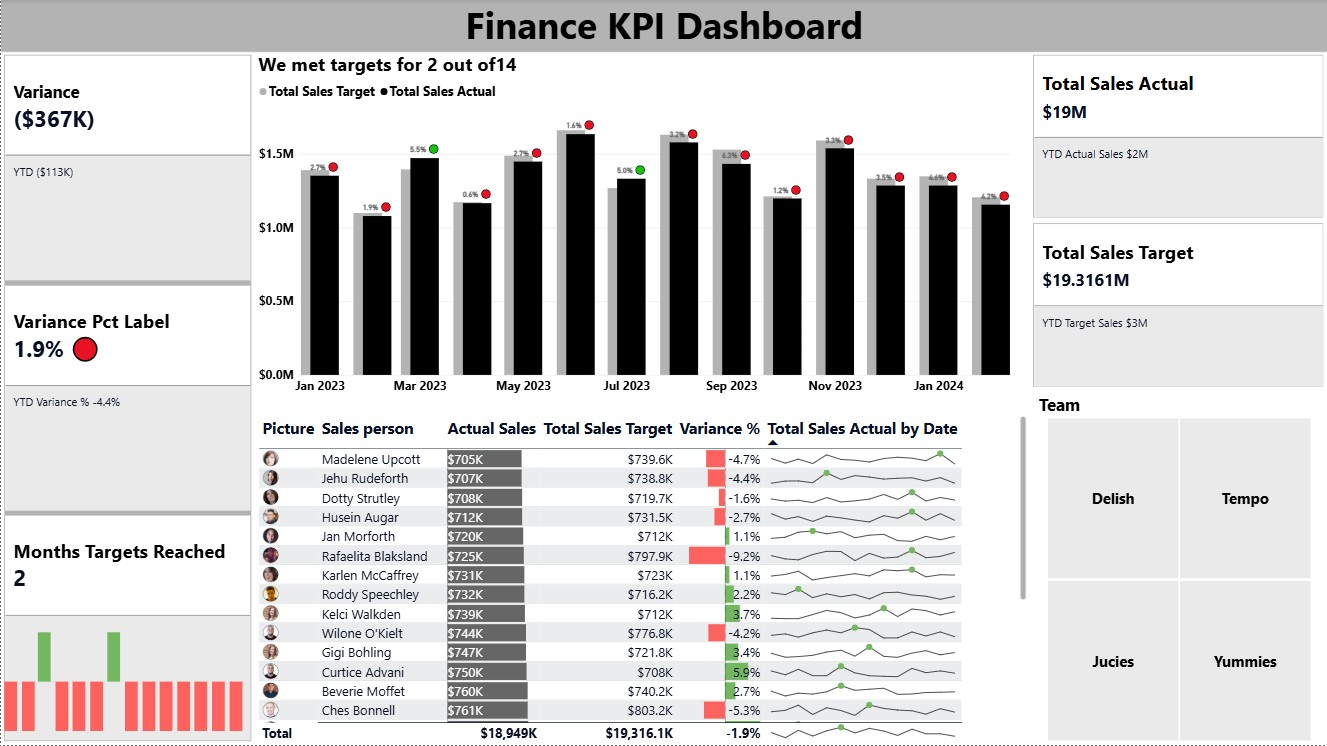

The dashboard page shown, as its layout file describes it:
{"tool":"powerbi","page":{"name":"Page 1","canvas":[1920,1080],"ordinal":0},"visuals":[{"type":"cardVisual","fields":{"Data":["Actual.Variance","Actual.Variance Pct Label","Actual.Months Targets Reached"]},"box":[0,76,367.4,1004.4],"z":0},{"type":"columnChart","fields":{"Category":["Calendar.Date"],"Y":["Actual.Target Status"]},"box":[0,903,354.7,162.9],"z":1000},{"type":"clusteredColumnChart","fields":{"Category":["Calendar.Date"],"Y":["Targets.Total Sales Target","Actual.Total Sales Actual"]},"box":[367.4,76,1107.5,504.9],"z":2000},{"type":"slicer","fields":{"Values":["dimPeople.Team"]},"box":[1489.4,566.4,430.7,513.9],"z":3000},{"type":"tableEx","fields":{"Values":["dimPeople.Picture","dimPeople.Sales person","Actual.Total Sales Actual","Targets.Total Sales Target","Actual.Variance %","SparklineData(Actual.Total Sales Actual_[Calendar.Date])"]},"box":[367.4,599,1122,481.4],"z":4000},{"type":"cardVisual","fields":{"Data":["Actual.Total Sales Actual","Targets.Total Sales Target"]},"box":[1489.4,76,430.7,490.4],"z":5000},{"type":"textbox","title":"Finance KPI Dashboard","box":[0,0,1920.1,115.8],"z":6000}]}

Visuals, with their boxes in screenshot pixels (x1, y1, x2, y2), scaled from the page's 1920x1080 canvas onto the 1327x746 screenshot:
cardVisual - Actual.Variance x Actual.Variance Pct Label: <region>0, 52, 254, 745</region>
columnChart - Calendar.Date x Actual.Target Status: <region>0, 624, 245, 736</region>
clusteredColumnChart - Calendar.Date x Targets.Total Sales Target: <region>254, 52, 1019, 401</region>
slicer - dimPeople.Team: <region>1029, 391, 1326, 745</region>
tableEx - dimPeople.Picture x dimPeople.Sales person: <region>254, 414, 1029, 745</region>
cardVisual - Actual.Total Sales Actual x Targets.Total Sales Target: <region>1029, 52, 1326, 391</region>
"Finance KPI Dashboard" textbox: <region>0, 0, 1326, 80</region>
